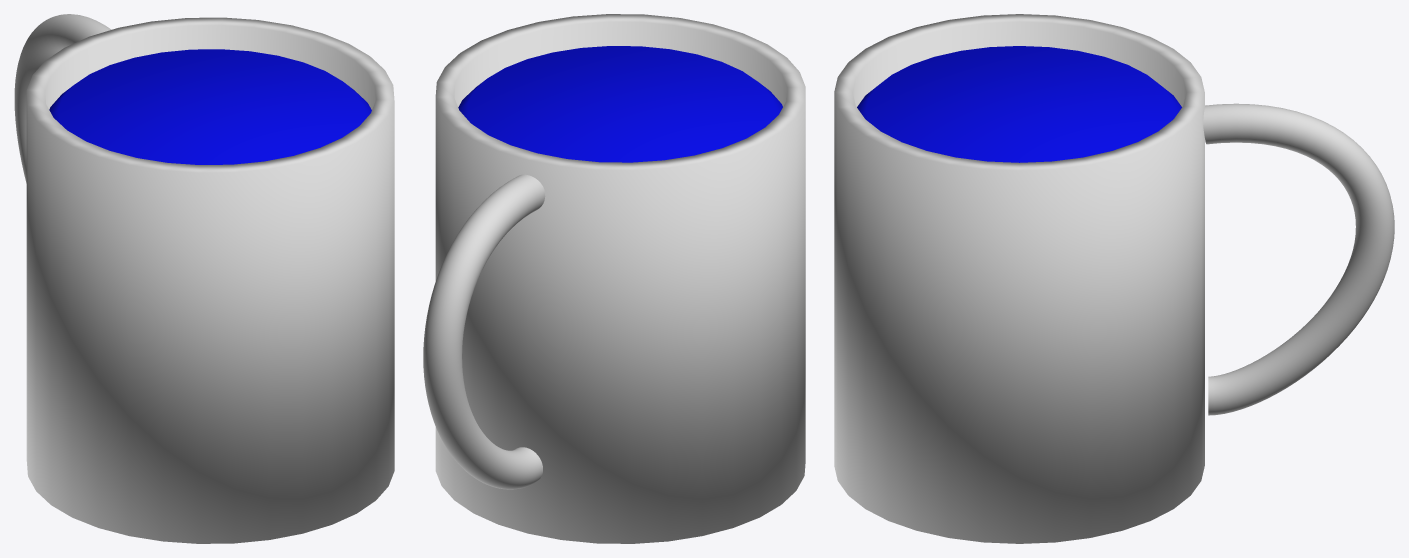
The model's file is mugcup_water.fbx.
The picture shows the model from 3 angles, left to right: view 1: azimuth 30°, elevation 25°; view 2: azimuth 150°, elevation 25°; view 3: azimuth 270°, elevation 25°; orthographic projection.
Visible parts, largest first — view 1: Cylinder, Cylinder.001, NurbsPath; view 2: Cylinder, Cylinder.001, NurbsPath; view 3: Cylinder, Cylinder.001, NurbsPath.
Part boxes in pixels (x1,y1,x2,y2): Cylinder: (26, 17, 394, 543); Cylinder.001: (49, 49, 371, 164); NurbsPath: (14, 14, 111, 183); Cylinder: (435, 14, 805, 543); Cylinder.001: (458, 46, 782, 162); NurbsPath: (423, 174, 545, 489); Cylinder: (834, 14, 1204, 543); Cylinder.001: (857, 46, 1181, 162); NurbsPath: (1203, 103, 1394, 415).
Size of the model in its own units: 9 by 10 by 13.61.
